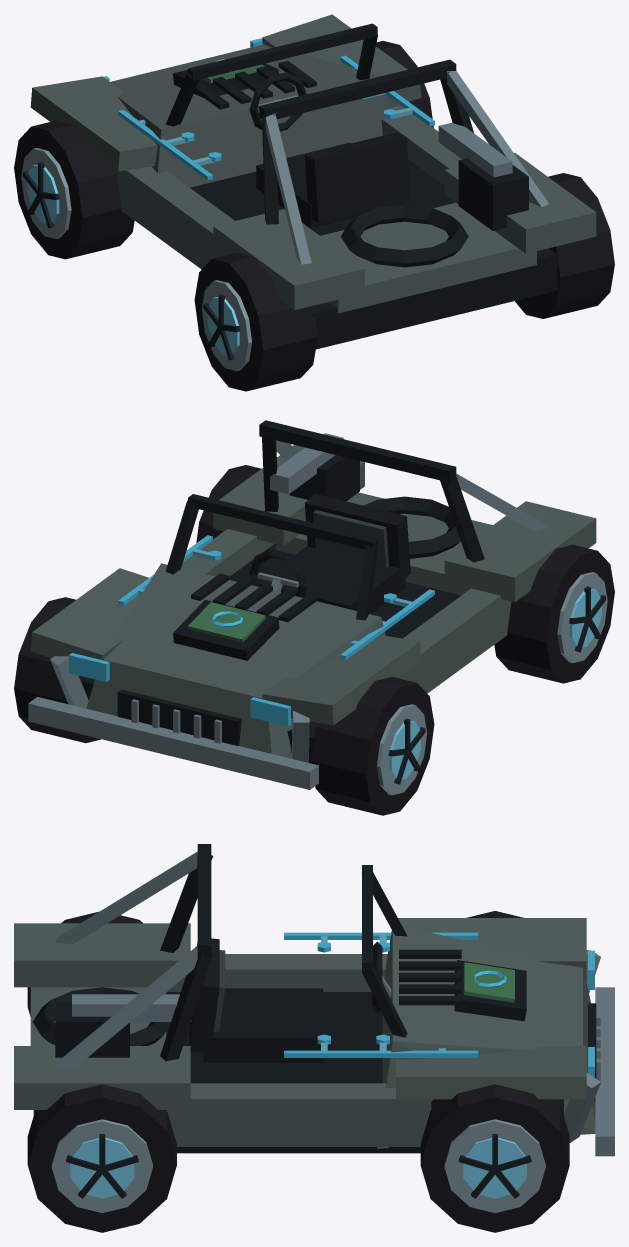
Rendered from kart.glb.
The picture shows the model from 3 angles, top to bottom: view 1: azimuth 30°, elevation 25°; view 2: azimuth 150°, elevation 25°; view 3: azimuth 270°, elevation 25°; orthographic projection. The views are drawn at different scales.
Parts seen in each view (by area): view 1: identity-warthog-warthog-sloped-armored-bonnet, identity-warthog-warthog-open-cage-and-cargo-bed, wheel-rear-left, wheel-front-left, identity-warthog-driver-cockpit, wheel-rear-right, identity-warthog-motif-circuit, identity-warthog-motif-scanner, wheel-front-right; view 2: identity-warthog-warthog-sloped-armored-bonnet, identity-warthog-warthog-open-cage-and-cargo-bed, wheel-front-left, wheel-rear-left, identity-warthog-driver-cockpit, identity-warthog-motif-scanner, wheel-front-right, identity-warthog-motif-circuit, wheel-rear-right; view 3: identity-warthog-warthog-sloped-armored-bonnet, identity-warthog-warthog-open-cage-and-cargo-bed, wheel-front-right, wheel-rear-right, identity-warthog-driver-cockpit, identity-warthog-motif-scanner, identity-warthog-motif-circuit.
Part boxes in pixels (<box>): identity-warthog-warthog-sloped-armored-bonnet: <box>30,14,596,349</box>; identity-warthog-warthog-open-cage-and-cargo-bed: <box>165,23,548,313</box>; wheel-rear-left: <box>194,252,317,391</box>; wheel-front-left: <box>14,120,134,259</box>; identity-warthog-driver-cockpit: <box>249,72,410,228</box>; wheel-rear-right: <box>515,173,614,318</box>; identity-warthog-motif-circuit: <box>118,55,434,180</box>; identity-warthog-motif-scanner: <box>173,59,278,97</box>; wheel-front-right: <box>376,41,433,127</box>; identity-warthog-warthog-sloped-armored-bonnet: <box>28,445,596,789</box>; identity-warthog-warthog-open-cage-and-cargo-bed: <box>165,420,548,620</box>; wheel-front-left: <box>311,677,434,815</box>; wheel-rear-left: <box>494,544,614,683</box>; identity-warthog-driver-cockpit: <box>249,494,410,613</box>; identity-warthog-motif-scanner: <box>173,599,279,660</box>; wheel-front-right: <box>14,597,101,743</box>; identity-warthog-motif-circuit: <box>118,535,434,659</box>; wheel-rear-right: <box>196,465,261,542</box>; identity-warthog-warthog-sloped-armored-bonnet: <box>14,918,614,1156</box>; identity-warthog-warthog-open-cage-and-cargo-bed: <box>30,844,407,1068</box>; wheel-front-right: <box>420,1084,569,1232</box>; wheel-rear-right: <box>27,1084,176,1232</box>; identity-warthog-driver-cockpit: <box>189,938,391,1062</box>; identity-warthog-motif-scanner: <box>454,960,526,1021</box>; identity-warthog-motif-circuit: <box>284,932,478,1057</box>.
Bounding box in the file's own units: 2.37 × 1.37 × 3.06.
